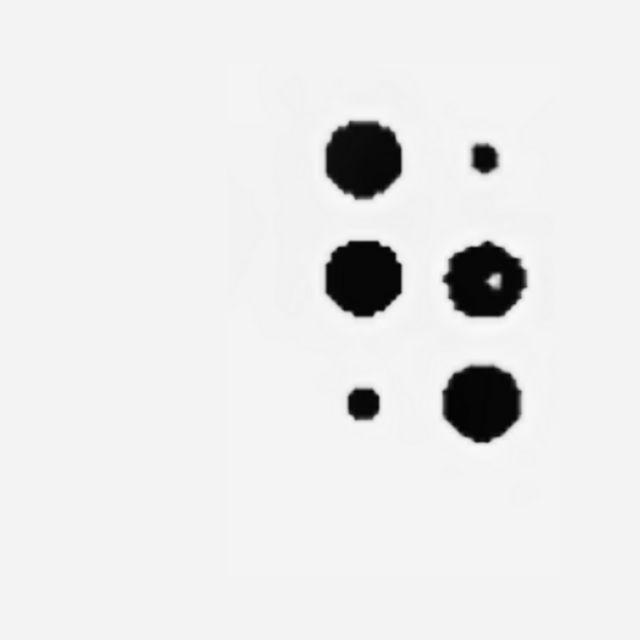tu: (325, 116, 525, 444)
